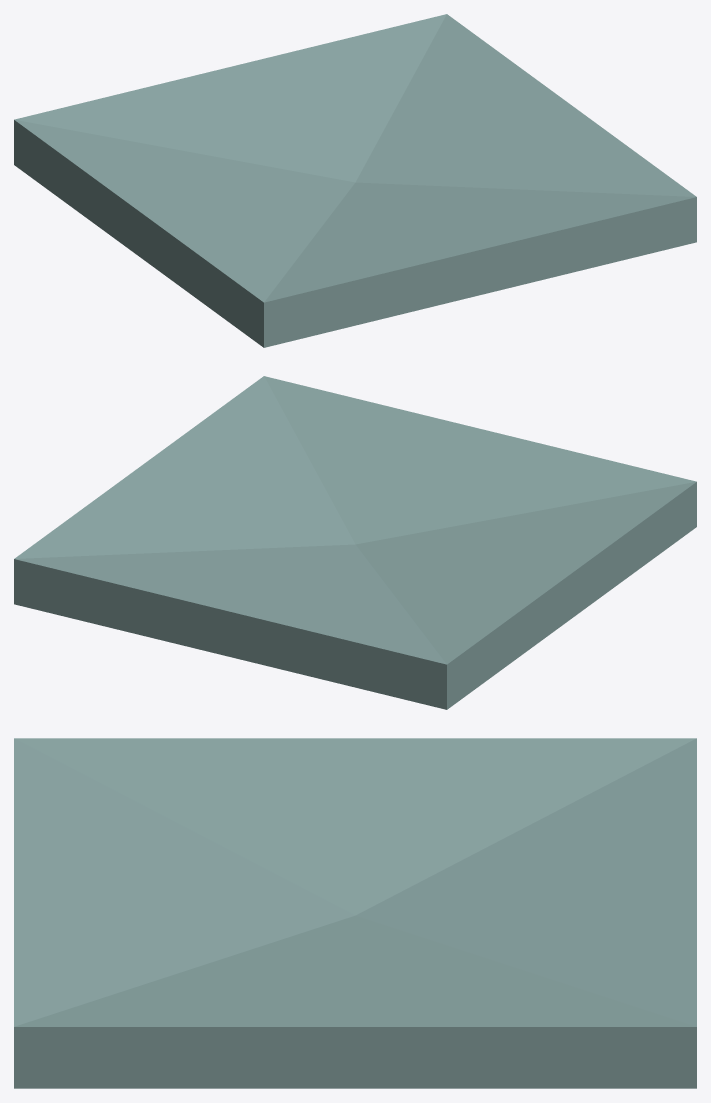
File: naturePack_003.fbx
The picture shows the model from 3 angles, top to bottom: view 1: azimuth 30°, elevation 25°; view 2: azimuth 150°, elevation 25°; view 3: azimuth 270°, elevation 25°; orthographic projection. The views are drawn at different scales.
Parts seen in each view (by area): view 1: naturePack_003; view 2: naturePack_003; view 3: naturePack_003.
Boxes of the visible parts, bbox=[...] form: naturePack_003: bbox=[14, 14, 696, 347]; naturePack_003: bbox=[14, 376, 696, 709]; naturePack_003: bbox=[14, 738, 696, 1088].
Bounding box in the file's own units: 300 × 30 × 300.
